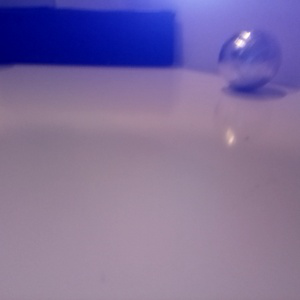alive_ball: (218, 29, 279, 89)
